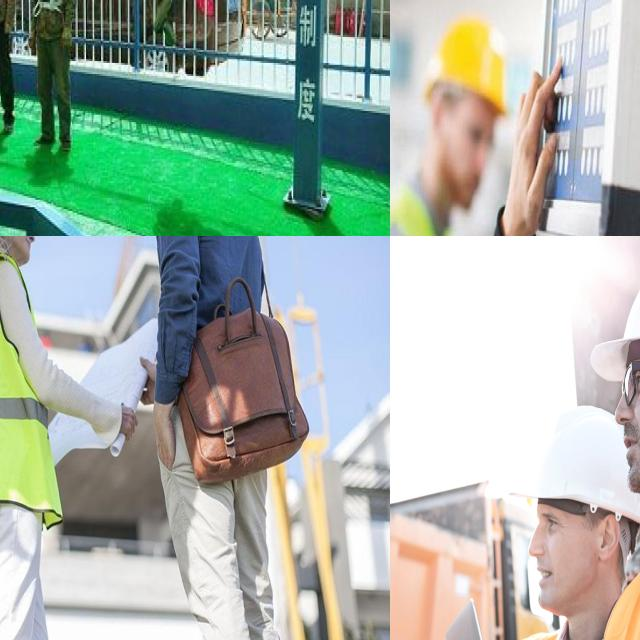No_Ear-Protection: (596, 510, 621, 568)
No_Glasses: (524, 502, 580, 543)
face_nomask: (524, 503, 596, 610), (609, 365, 640, 490), (0, 236, 38, 265)
glasses: (614, 358, 640, 403)
hand_glove: (58, 26, 76, 55), (27, 22, 38, 52)
hand_noglove: (511, 55, 566, 236), (148, 394, 179, 480), (113, 401, 143, 453)
head_helmet: (513, 387, 640, 532), (428, 15, 508, 106), (599, 249, 640, 378)
person: (420, 323, 622, 640), (154, 236, 297, 640), (390, 3, 519, 236), (576, 253, 640, 640), (0, 236, 56, 640), (24, 0, 77, 151), (0, 0, 22, 127)
shoes: (32, 129, 58, 149)
vest: (0, 255, 54, 526), (390, 175, 466, 236)
